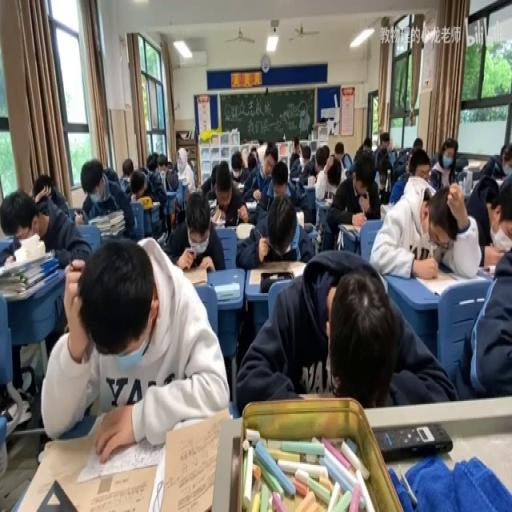calculator: (154, 407, 230, 512), (76, 411, 165, 481), (0, 243, 58, 299), (415, 272, 466, 297), (247, 264, 304, 286), (177, 263, 209, 286), (88, 209, 121, 225), (214, 280, 240, 300), (302, 182, 317, 209), (341, 220, 362, 238), (234, 222, 253, 240), (210, 205, 226, 223), (477, 264, 494, 278), (378, 202, 390, 218), (295, 210, 304, 229), (466, 158, 483, 168), (492, 176, 506, 188), (160, 171, 166, 192), (206, 196, 216, 208), (149, 199, 159, 209), (321, 196, 331, 206), (244, 201, 256, 209), (234, 181, 245, 189), (178, 175, 187, 183), (308, 175, 314, 186), (290, 174, 300, 180)
paper: (44, 235, 230, 452), (234, 250, 450, 411), (371, 168, 478, 280), (236, 189, 314, 270), (325, 148, 379, 245), (165, 186, 225, 269), (80, 158, 138, 243), (468, 171, 510, 267), (32, 169, 70, 219), (429, 135, 459, 189), (476, 141, 510, 182), (240, 148, 263, 200), (373, 132, 396, 179), (291, 144, 315, 182), (198, 162, 218, 199), (408, 148, 430, 178), (388, 176, 406, 205), (324, 160, 341, 190), (130, 169, 146, 199), (314, 145, 329, 171), (102, 165, 120, 186), (393, 148, 408, 168), (454, 154, 468, 174), (122, 158, 134, 178), (146, 152, 158, 172), (231, 154, 242, 172), (118, 174, 130, 190), (341, 152, 351, 171), (334, 141, 344, 159), (157, 154, 168, 170), (186, 151, 196, 168), (411, 136, 422, 150), (361, 136, 370, 150), (292, 138, 298, 155), (379, 144, 388, 155), (387, 136, 394, 150), (302, 154, 310, 164), (250, 145, 256, 158)
person: (373, 422, 452, 461)
